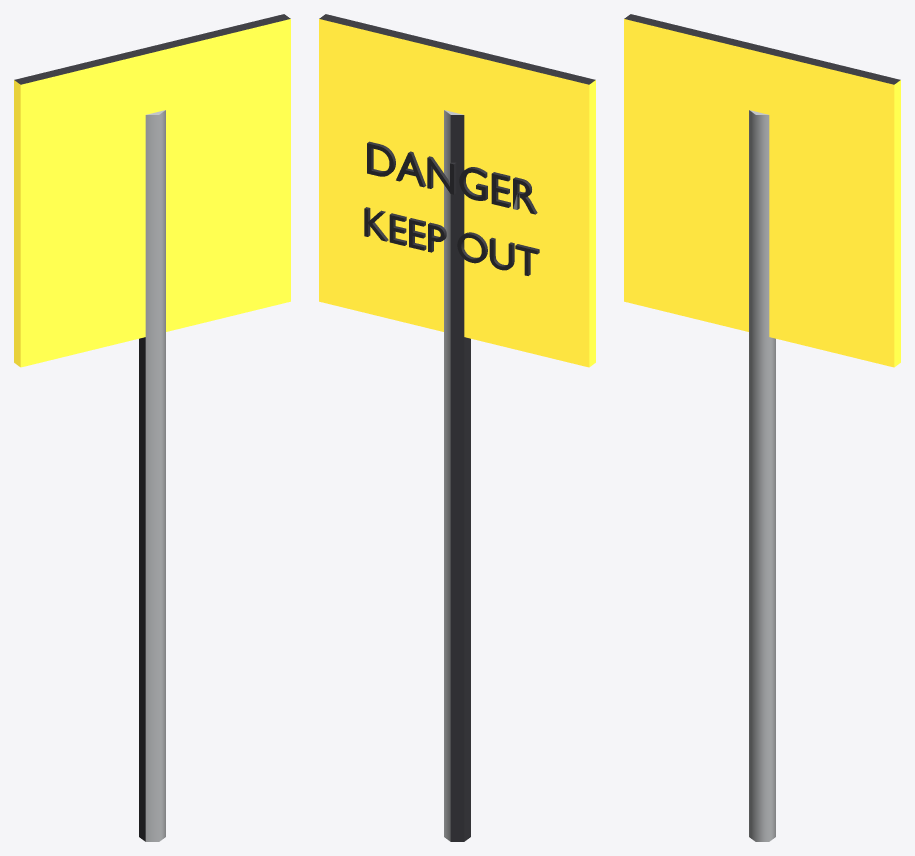
Rendered from hazard_sign.glb.
3 views of the same model, side by side, from view 1: azimuth 30°, elevation 25°; view 2: azimuth 150°, elevation 25°; view 3: azimuth 330°, elevation 25° (orthographic).
Parts seen in each view (by area): view 1: hazard_sign; view 2: hazard_sign; view 3: hazard_sign.
Boxes of the visible parts, bbox=[...] form: hazard_sign: bbox=[14, 14, 290, 841]; hazard_sign: bbox=[319, 14, 595, 841]; hazard_sign: bbox=[624, 14, 900, 841].
Bounding box in the file's own units: 0.7 × 1.95 × 0.065.
